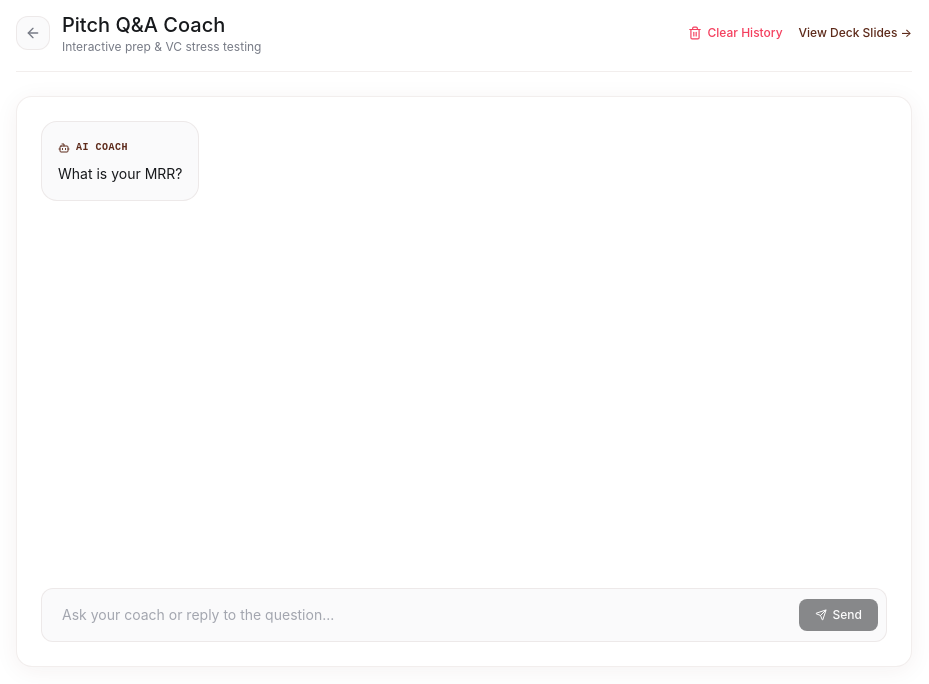
Scenario: SimulatorPage (Q&A History) › should allow clearing history
Expected: the text "What is your MRR?" is shown, [58, 164, 182, 184]
Note: Click clear history
Click the button "Clear History" at (735,33), box [688, 25, 782, 41]
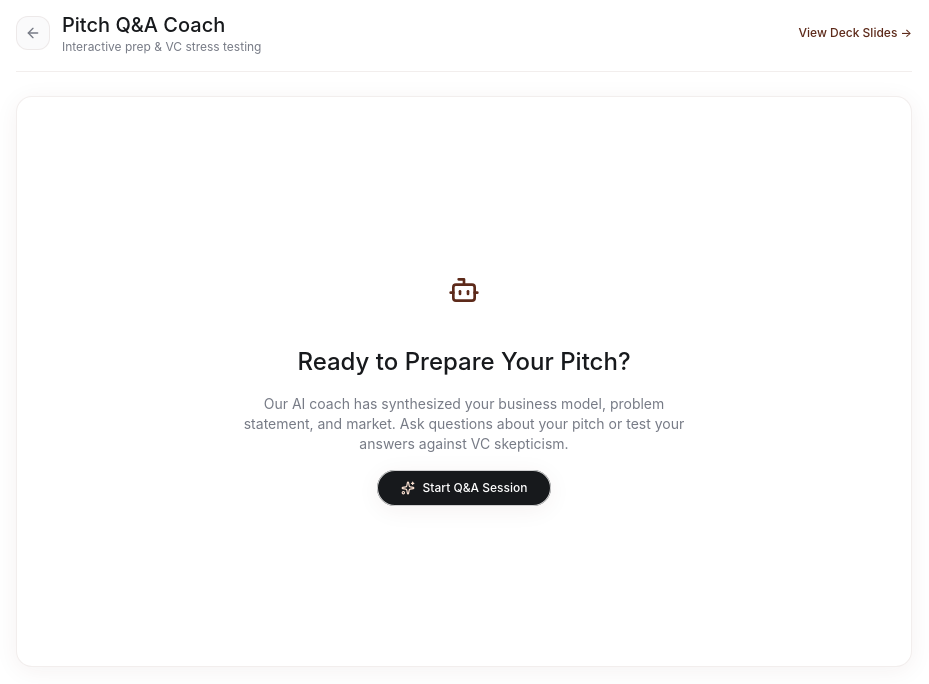
Result: the heading "Ready to Prepare Your Pitch?" is shown at [297, 346, 630, 378]
